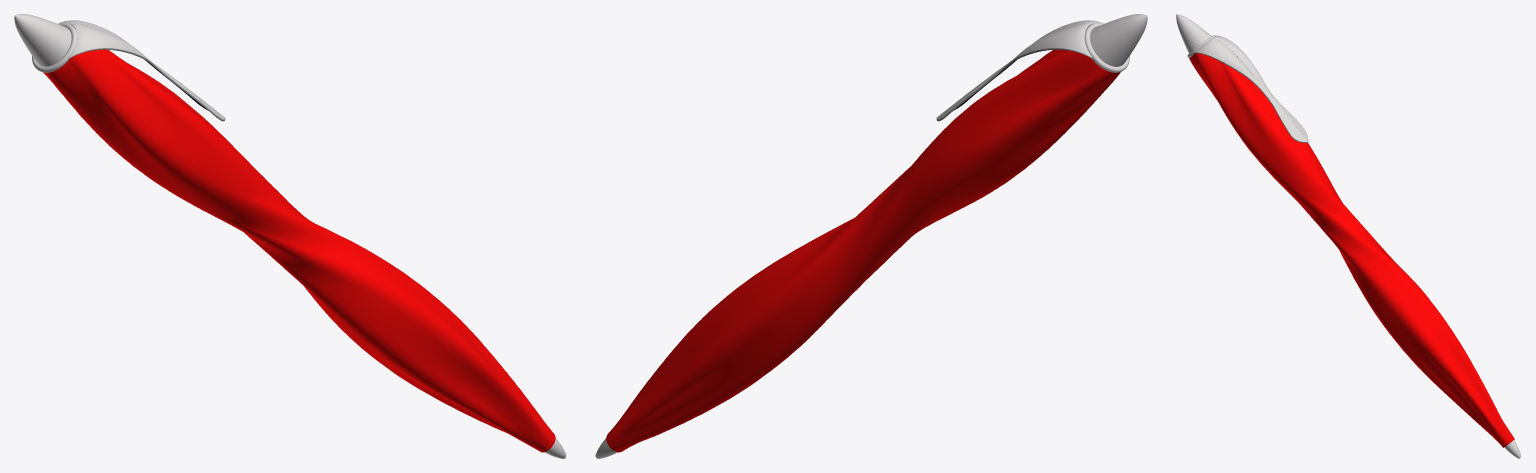
File: sabrettapen.glb
3 renders of one model, left to right at view 1: azimuth 30°, elevation 25°; view 2: azimuth 150°, elevation 25°; view 3: azimuth 330°, elevation 25°, orthographic. The views are drawn at different scales.
Bounding box in the file's own units: 0.2882 × 0.2883 × 0.0381.
